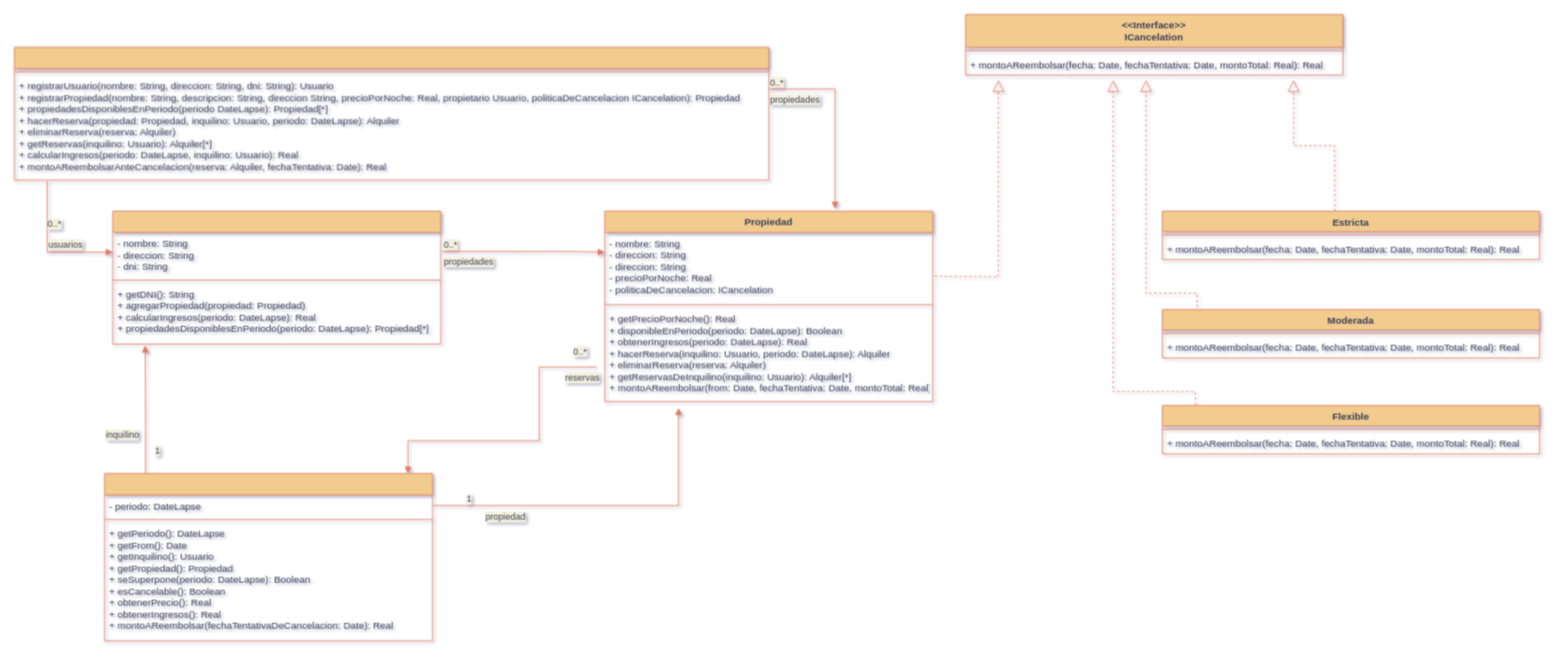
This 1559x663 diagram has some shape labels left out. Each missing label, with the box of its shape:
Alquiler: (104, 473, 433, 641)
OOBnB: (14, 46, 769, 180)
Usuario: (112, 210, 441, 344)
